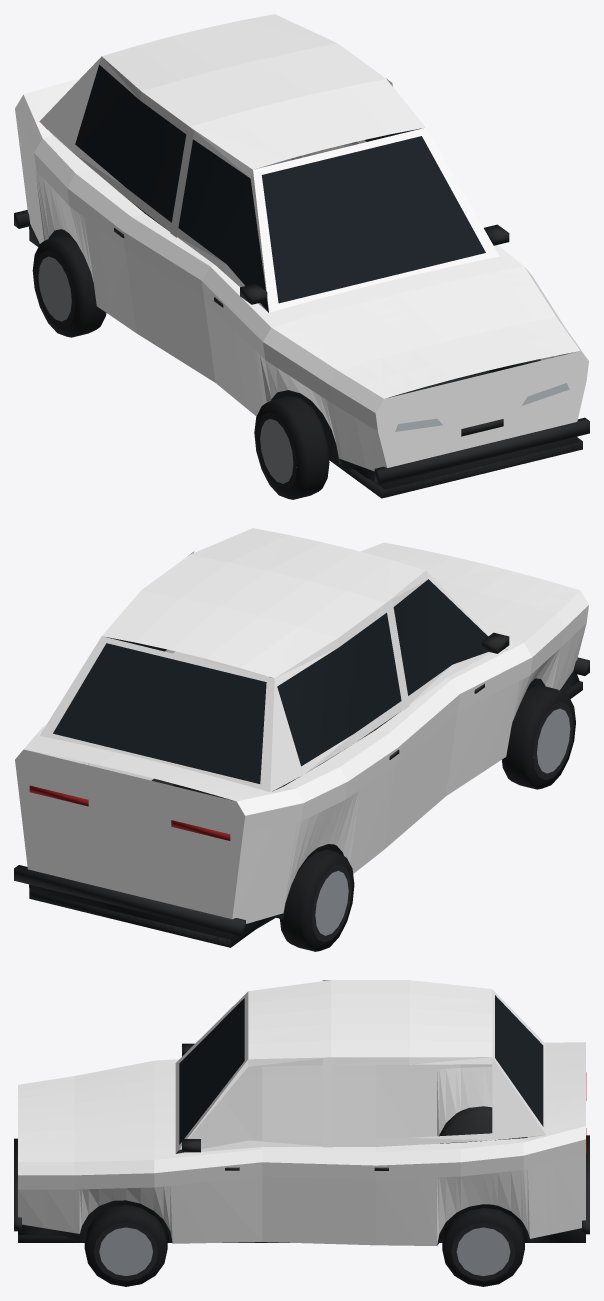
File: morel_jangada.glb
3 views of the same model, one above another, from view 1: azimuth 30°, elevation 25°; view 2: azimuth 150°, elevation 25°; view 3: azimuth 270°, elevation 25° (orthographic). The views are drawn at different scales.
Parts seen in each view (by area): view 1: Body_Paint, Body_Details, Mount_FrontLeft_Wheel_Details, Mount_RearLeft_Wheel_Details; view 2: Body_Paint, Body_Details, Mount_FrontLeft_Wheel_Details, Mount_RearLeft_Wheel_Details; view 3: Body_Paint, Body_Details, Mount_FrontRight_Wheel_Details, Mount_RearRight_Wheel_Details.
Part boxes in pixels (left/top/right/bottom): Body_Paint: left=15, top=14, right=588, bottom=471; Body_Details: left=14, top=64, right=589, bottom=498; Mount_FrontLeft_Wheel_Details: left=254, top=395, right=329, bottom=499; Mount_RearLeft_Wheel_Details: left=32, top=234, right=106, bottom=337; Body_Paint: left=15, top=528, right=588, bottom=923; Body_Details: left=14, top=579, right=589, bottom=947; Mount_FrontLeft_Wheel_Details: left=502, top=685, right=575, bottom=789; Mount_RearLeft_Wheel_Details: left=280, top=849, right=354, bottom=951; Body_Paint: left=18, top=980, right=585, bottom=1245; Body_Details: left=14, top=995, right=589, bottom=1245; Mount_FrontRight_Wheel_Details: left=84, top=1205, right=167, bottom=1286; Mount_RearRight_Wheel_Details: left=442, top=1208, right=524, bottom=1286.
Size of the model in its own units: 1.8 by 1.66 by 3.96.
Materials: 2 (1 with a texture image).
